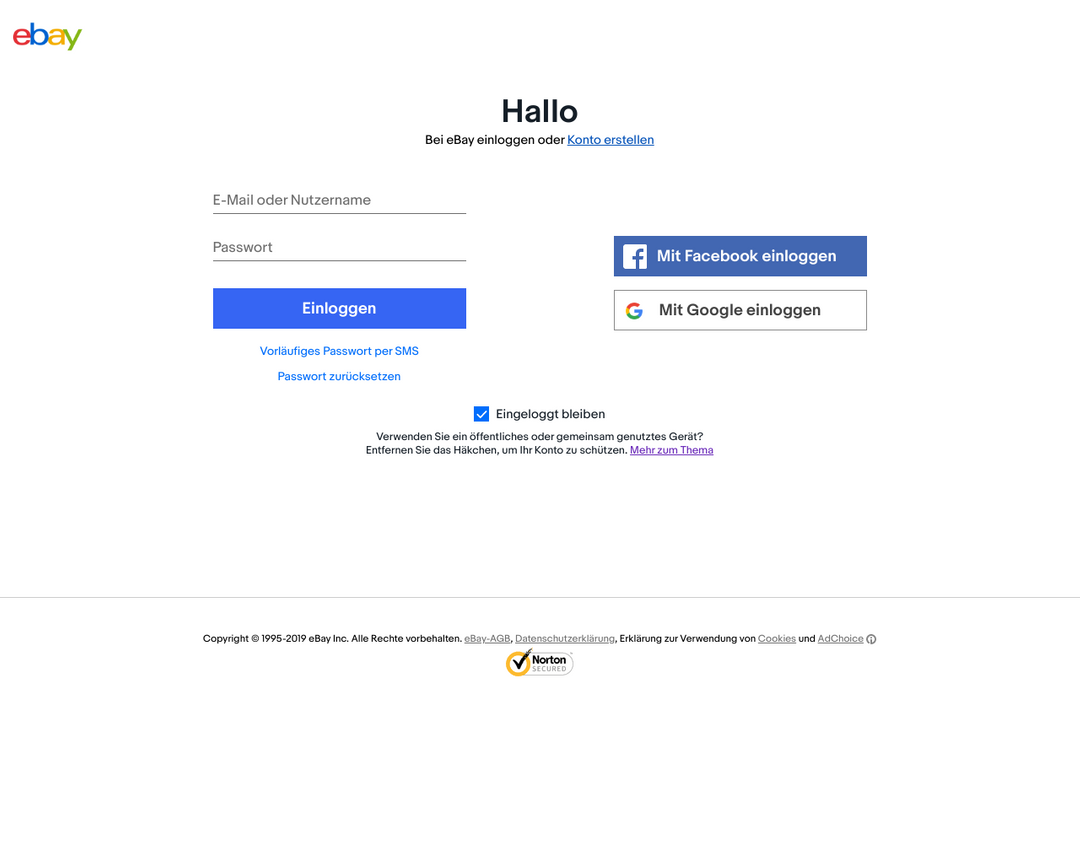Ebay: (12, 20, 84, 52)
Facebook: (622, 241, 652, 274)
Google: (620, 295, 646, 324)
